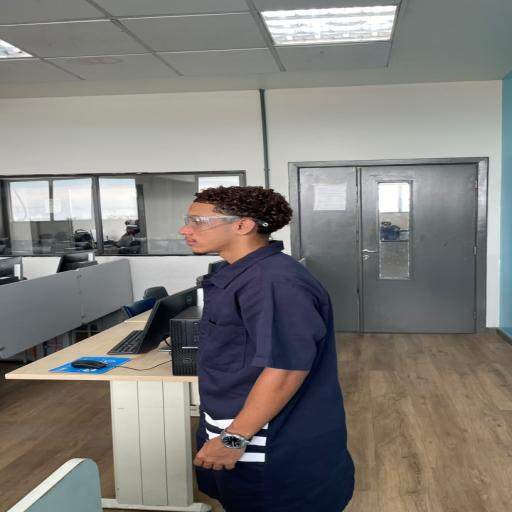OCULOS: (184, 214, 272, 232)
